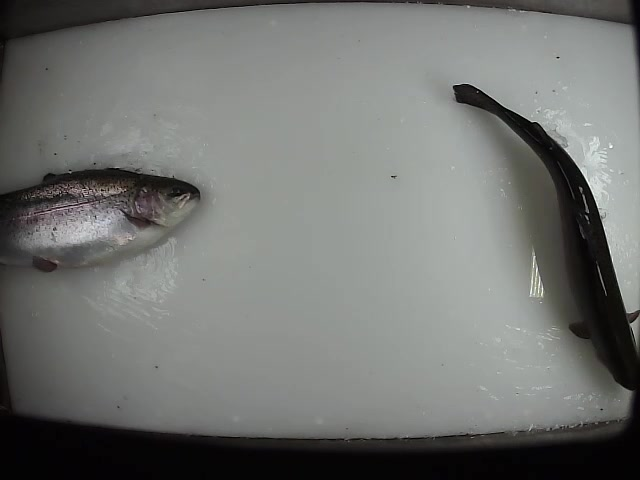Fish: (453, 83, 639, 393)
